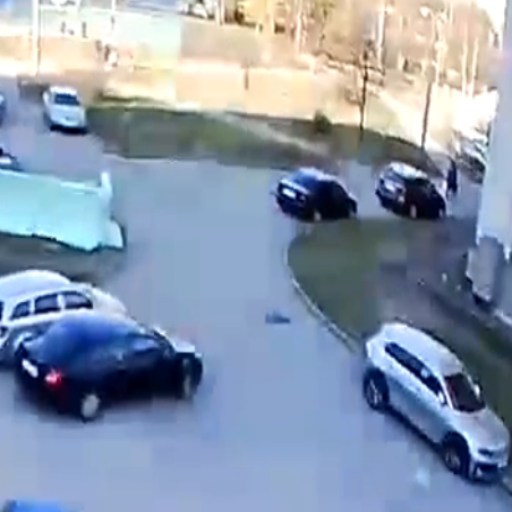Car: (364, 321, 512, 486), (12, 311, 202, 412), (0, 269, 125, 348), (371, 152, 452, 226), (275, 161, 354, 220), (40, 84, 87, 131)
